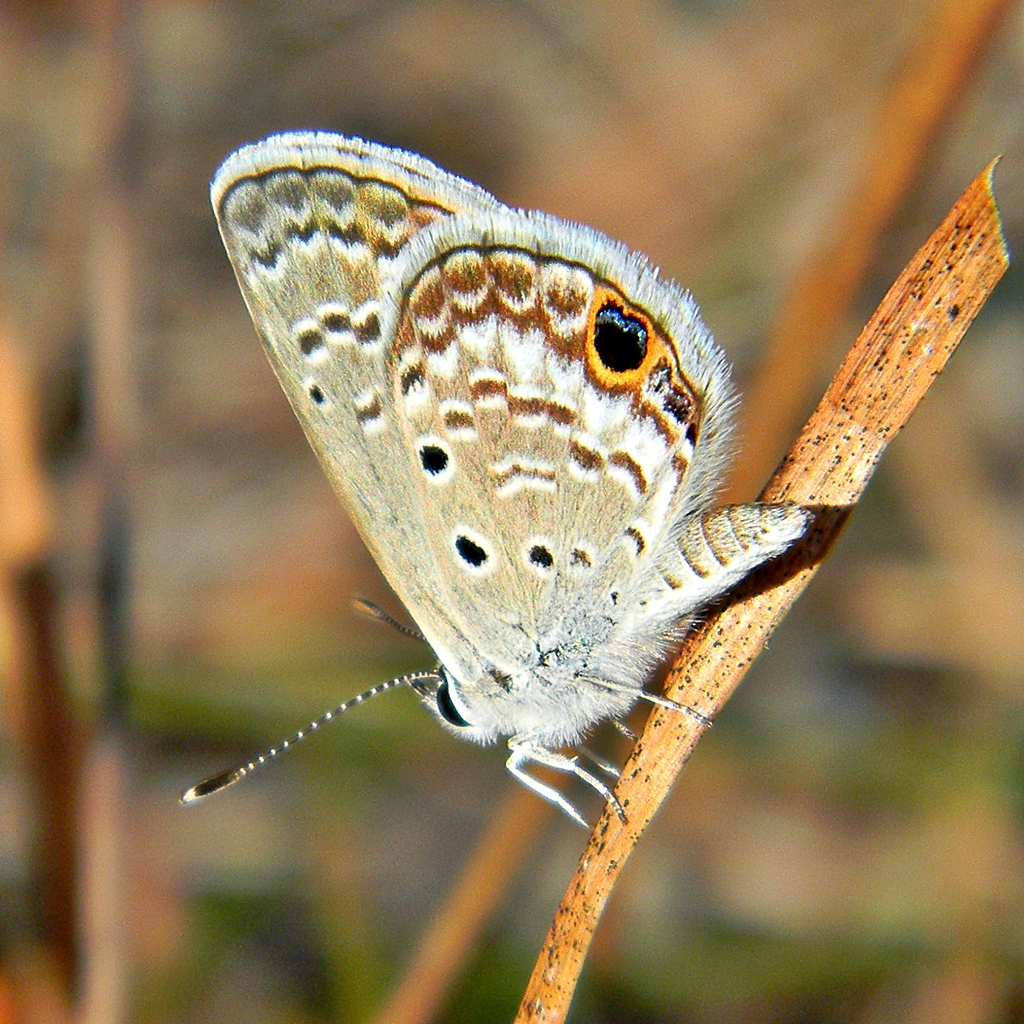Butterfly: (131, 98, 831, 845)
